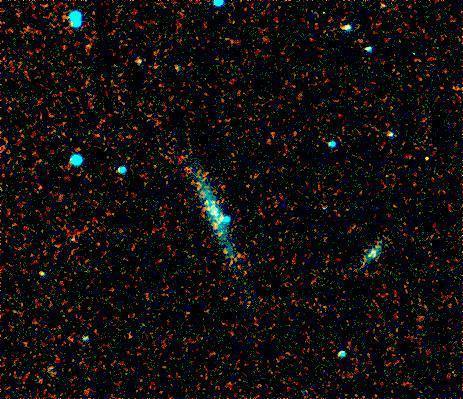star: (124, 43, 154, 73)
